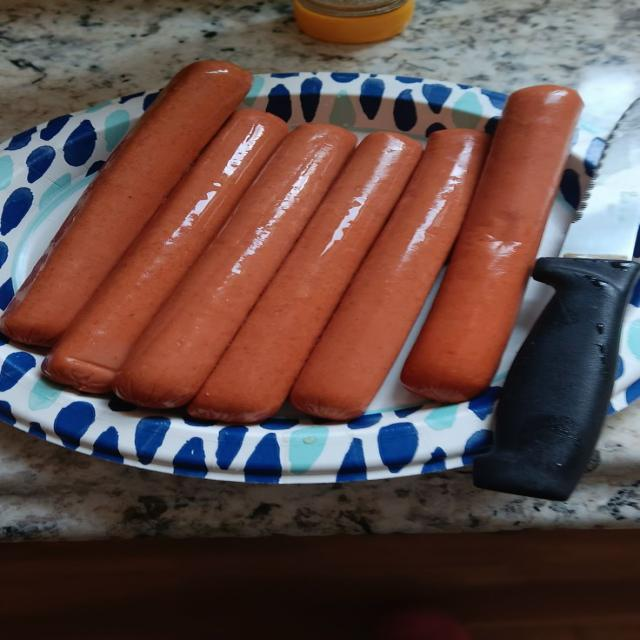sausage: (0, 61, 252, 345), (43, 110, 288, 392), (114, 125, 355, 408), (188, 133, 421, 422), (291, 130, 489, 419), (402, 86, 582, 402)
